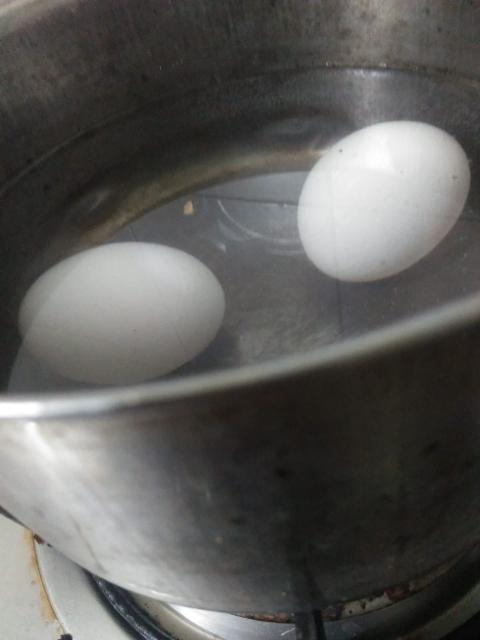Sano: (21, 238, 223, 386), (299, 119, 469, 282)
